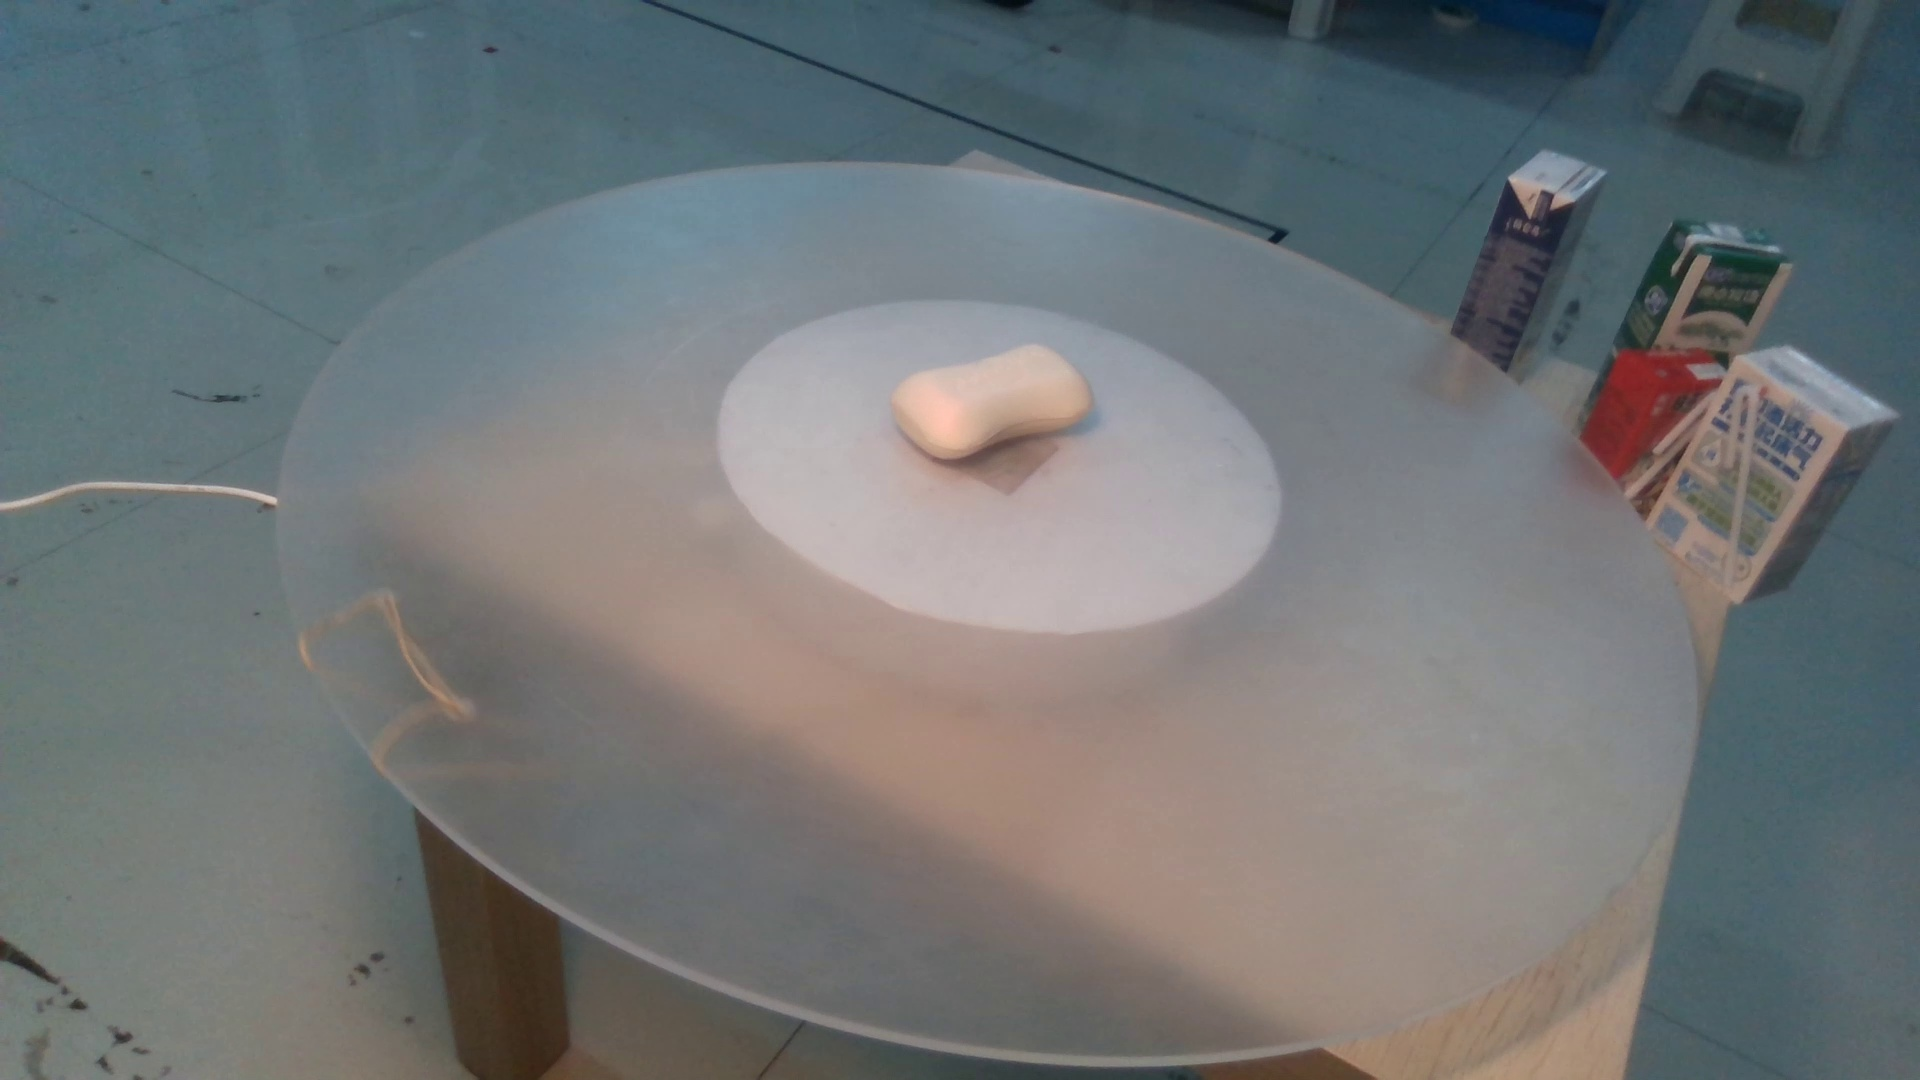CA003_1: (880, 323, 1141, 469)
